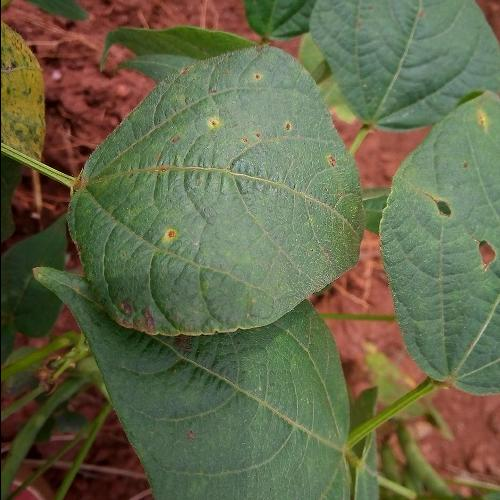hawar: (176, 57, 345, 184), (148, 216, 190, 256)
